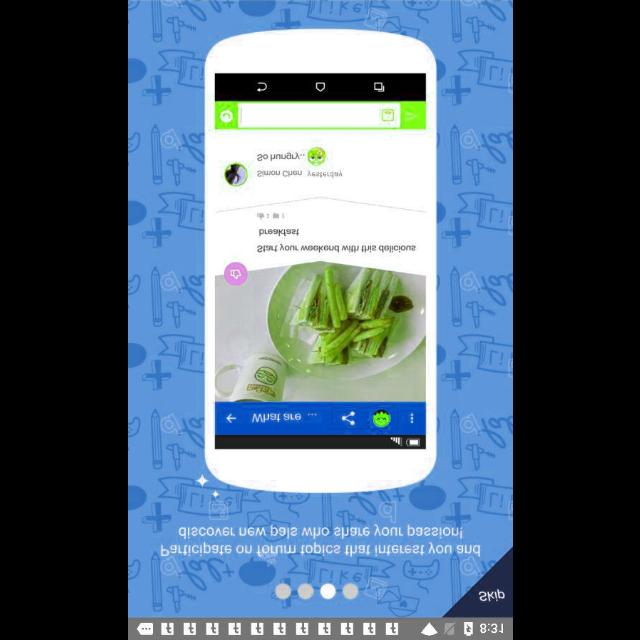backgroundimage: (128, 0, 512, 616)
image: (204, 30, 436, 492)
pageindicator: (274, 582, 358, 598)
text: (161, 524, 484, 556), (478, 588, 504, 602)
uppertaskbar: (128, 617, 512, 639)
